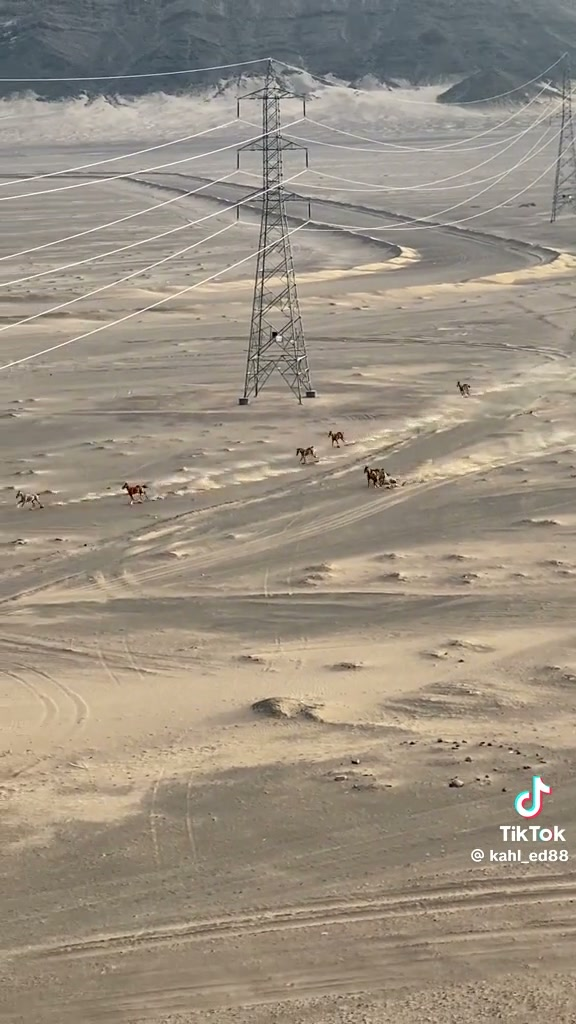animal: (122, 483, 147, 503), (15, 490, 43, 507), (376, 468, 396, 488), (296, 446, 317, 463), (364, 465, 379, 486), (328, 431, 344, 447), (457, 381, 469, 396)
vehicle_track: (12, 875, 575, 957), (290, 453, 526, 543)
